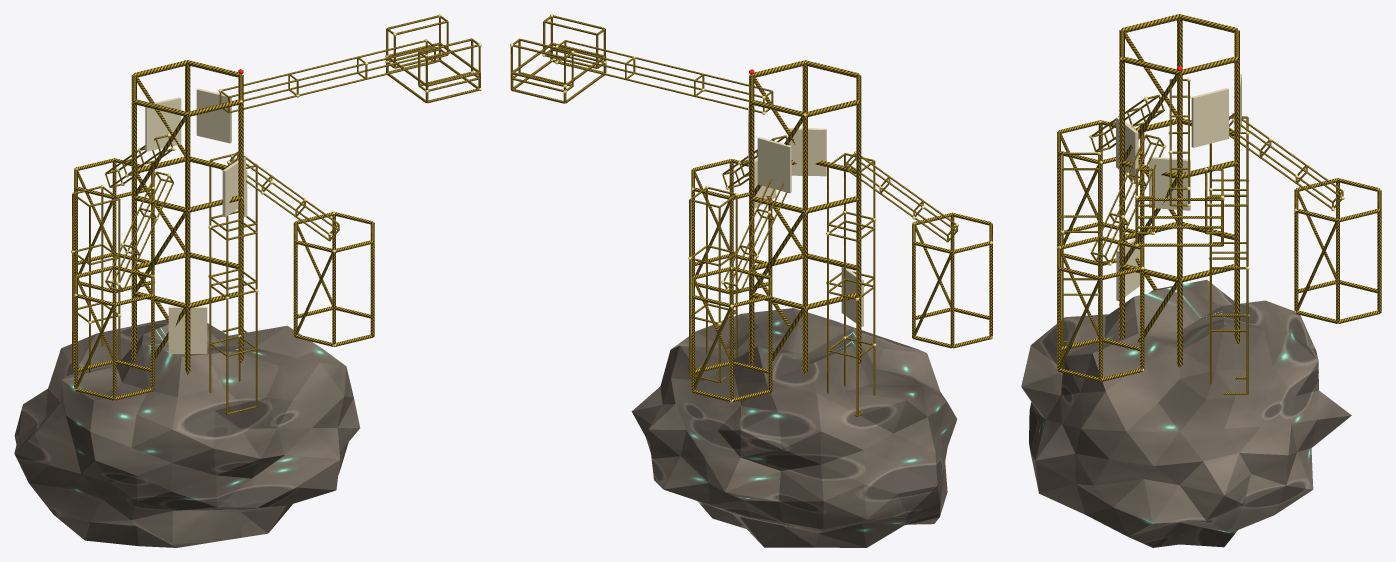
File: mining_facility_build1.obj
3 views of the same model, side by side, from view 1: azimuth 30°, elevation 25°; view 2: azimuth 150°, elevation 25°; view 3: azimuth 270°, elevation 25° (orthographic). The views are drawn at different scales.
Visible parts, largest first — view 1: rock, post, girder, plate, brace, work_light; view 2: rock, post, girder, plate, brace; view 3: rock, post, girder, plate, brace, work_light.
Part boxes in pixels (box(x1,y1,x2,y2)): rock: box(14, 319, 360, 547); post: box(72, 40, 435, 414); girder: box(72, 15, 480, 414); plate: box(145, 88, 247, 353); brace: box(76, 77, 333, 389); work_light: box(71, 14, 481, 390); rock: box(631, 308, 957, 547); post: box(558, 40, 992, 415); girder: box(510, 15, 992, 416); plate: box(748, 106, 863, 326); brace: box(693, 77, 951, 391); rock: box(1021, 279, 1351, 547); post: box(1057, 18, 1381, 393); girder: box(1057, 14, 1381, 394); plate: box(1116, 74, 1241, 300); brace: box(1059, 33, 1337, 369); work_light: box(1057, 29, 1381, 371).
Size of the model in its own units: 161 by 162 by 109.
Materials: 5 (2 with a texture image).
